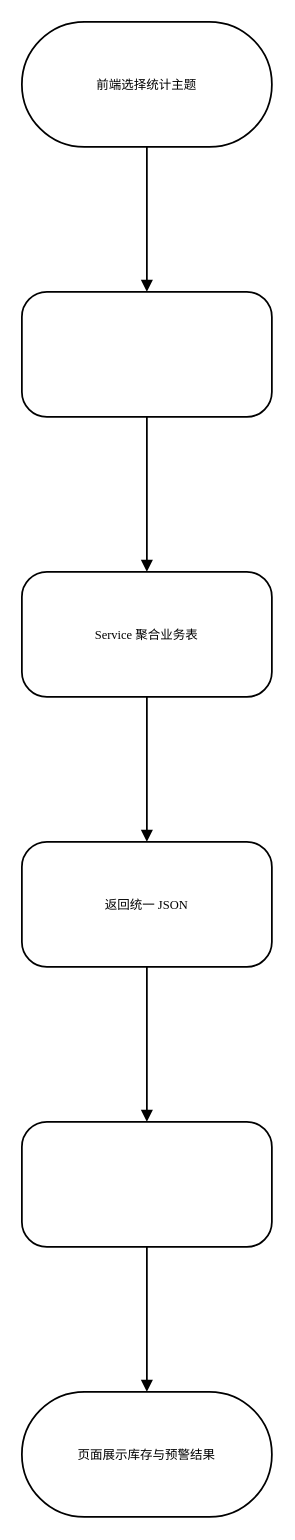
This 295x1540 diagram has some shape labels left out. Here are the shapes that lost their labels. From the top down, the centre of each, then its label:
the point at 146,353: 请求 AnalyticsController
the point at 146,1183: ECharts 渲染图表
